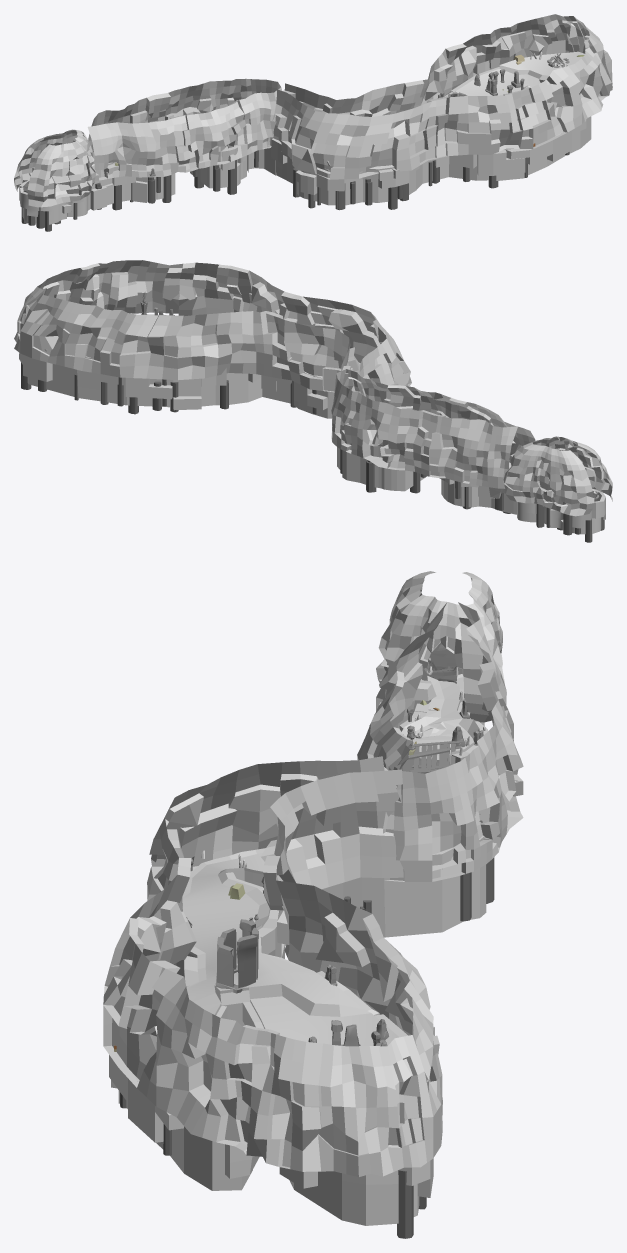
Rendered from cave.FBX.
3 renders of one model, top to bottom at view 1: azimuth 30°, elevation 25°; view 2: azimuth 150°, elevation 25°; view 3: azimuth 270°, elevation 25°, orthographic. The views are drawn at different scales.
Visible parts, largest first — view 1: Cylinder002, Cylinder001, Object030, Object026, Object029, Object025, Box075; view 2: Cylinder002, Cylinder001, Object030, Object026, Object029, Object025; view 3: Cylinder002, Object030, Cylinder001, Object029, Object026, Cylinder004, Box011, Object075.
Part boxes in pixels (x1,y1,x2,y2): Cylinder002: (267, 14, 612, 179); Cylinder001: (87, 78, 282, 180); Object030: (271, 51, 591, 205); Object026: (14, 129, 95, 207); Object029: (90, 146, 276, 210); Object025: (19, 180, 90, 224); Box075: (485, 69, 524, 95); Cylinder002: (14, 260, 411, 394); Cylinder001: (331, 369, 535, 488); Object030: (19, 313, 361, 418); Object026: (503, 436, 612, 516); Object029: (337, 442, 516, 514); Object025: (517, 488, 605, 534); Cylinder002: (103, 756, 442, 1177); Object030: (109, 848, 433, 1225); Cylinder001: (357, 602, 523, 881); Object029: (384, 676, 488, 937); Object026: (376, 571, 505, 722); Cylinder004: (215, 919, 258, 993); Box011: (407, 740, 462, 773); Object075: (397, 1170, 413, 1238).
Bounding box in the file's own units: 52702 × 8428 × 17080.
